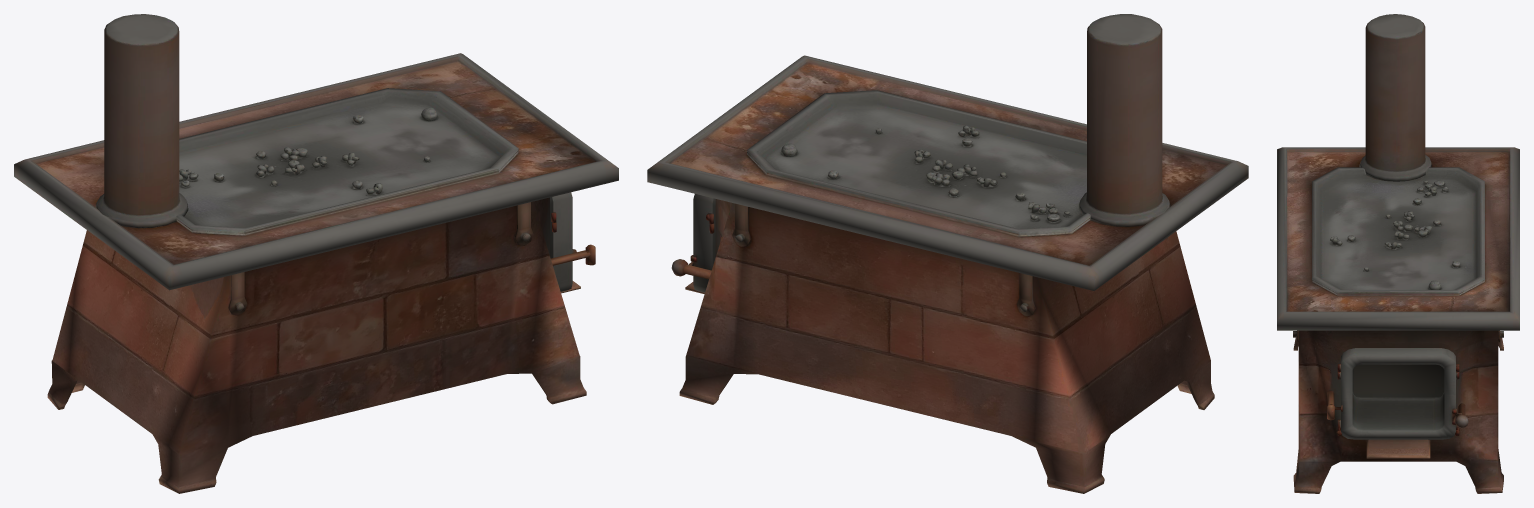
The model's file is Prop_Stove_WoodBurning.glb.
3 renders of one model, left to right at view 1: azimuth 30°, elevation 25°; view 2: azimuth 150°, elevation 25°; view 3: azimuth 270°, elevation 25°, orthographic. The views are drawn at different scales.
Parts seen in each view (by area): view 1: tripo_node_fbdacbb1-0789-43eb-99ee-4606bc0ede89; view 2: tripo_node_fbdacbb1-0789-43eb-99ee-4606bc0ede89; view 3: tripo_node_fbdacbb1-0789-43eb-99ee-4606bc0ede89.
Boxes of the visible parts, x1,y1,x2,y2 form: tripo_node_fbdacbb1-0789-43eb-99ee-4606bc0ede89: (14, 14, 618, 493); tripo_node_fbdacbb1-0789-43eb-99ee-4606bc0ede89: (647, 14, 1248, 493); tripo_node_fbdacbb1-0789-43eb-99ee-4606bc0ede89: (1277, 14, 1519, 493).
Bounding box in the file's own units: 1.13 × 0.95 × 0.6488.
Materials: 1 (1 with a texture image).
